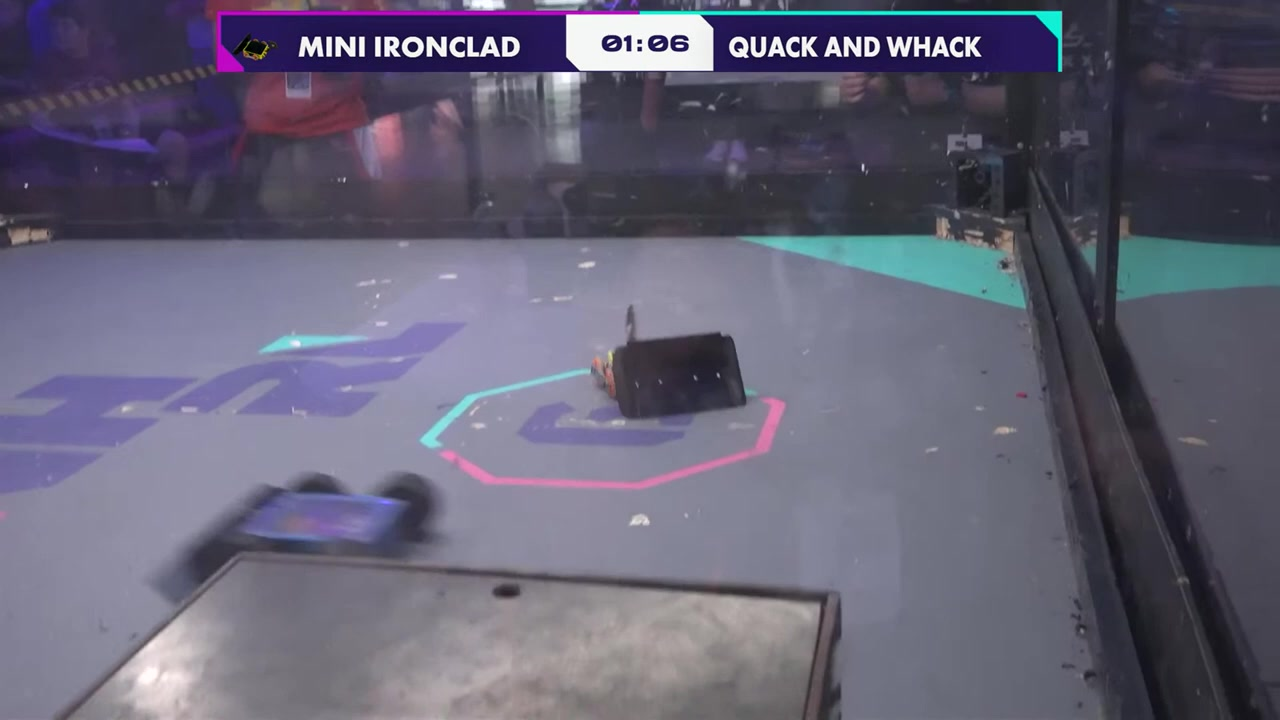combatbot: (168, 467, 439, 582), (589, 334, 749, 420)
housebot: (57, 550, 844, 719)
